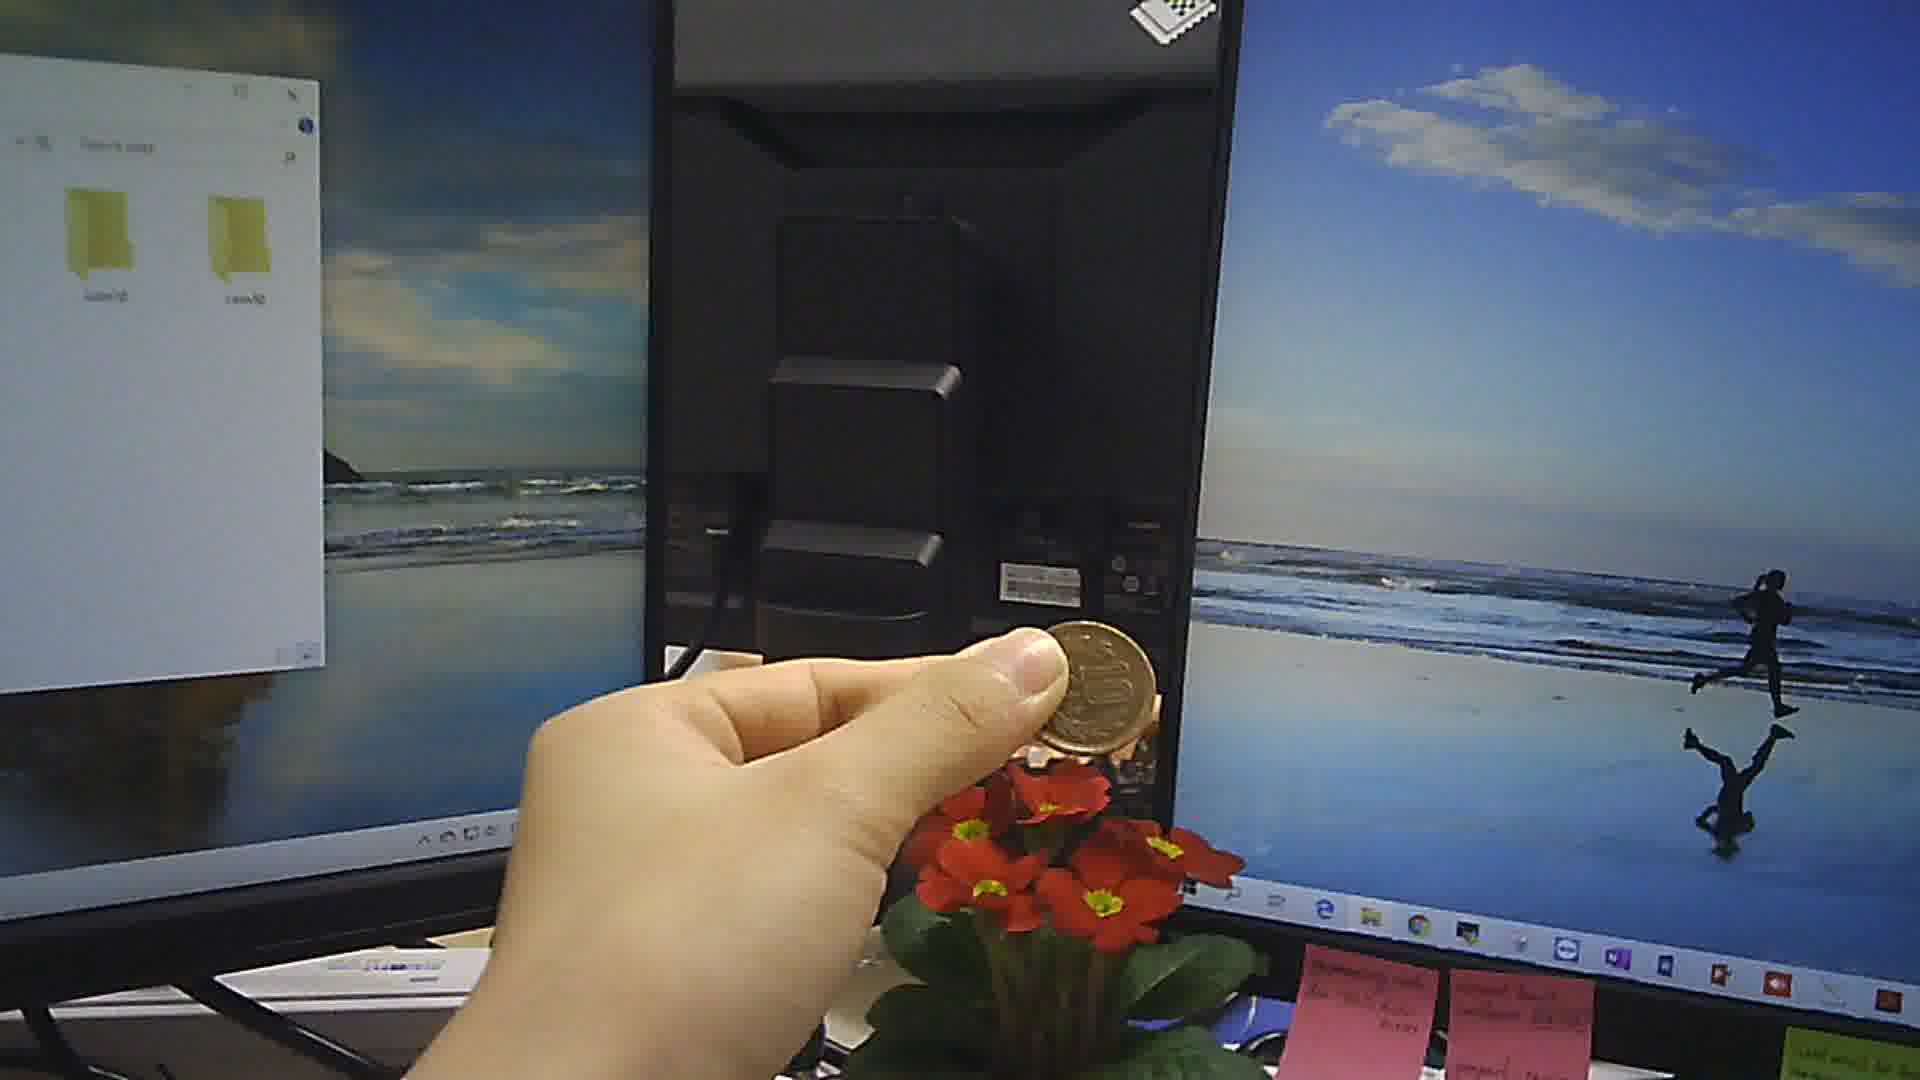10 Yen: (1011, 611, 1162, 765)
